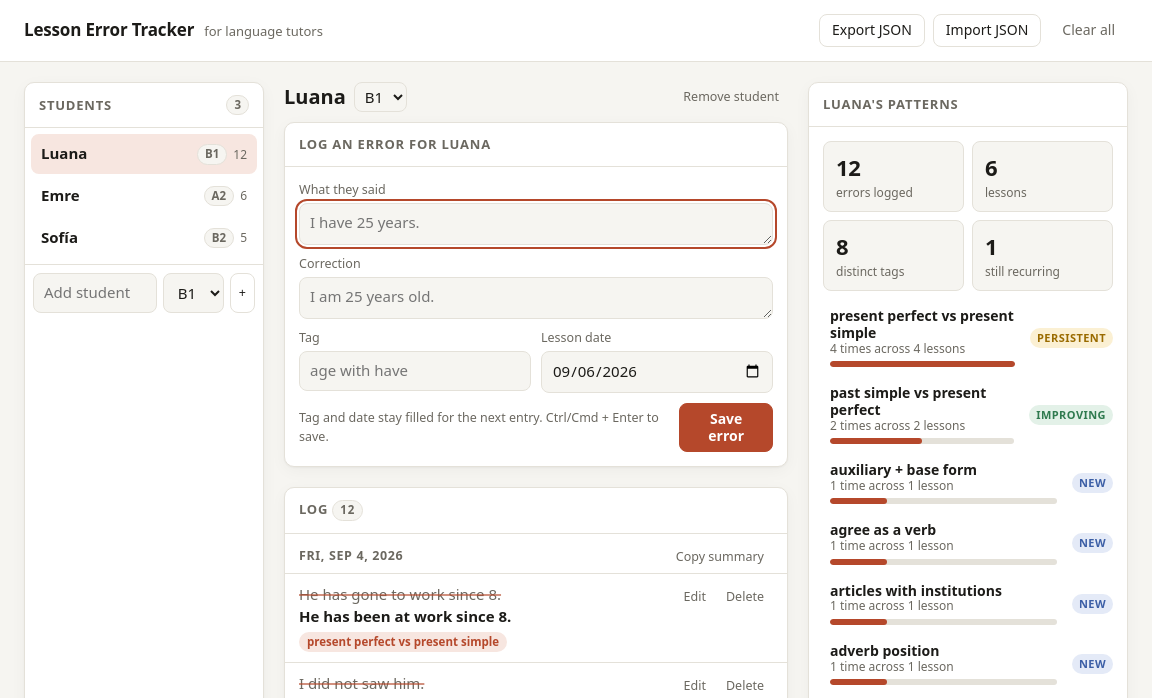
Scenario: App › copies a plain-text summary of one lesson to the clipboard
The width and height of the screenshot is (1152, 698).
Click the button with aria-label "Copy lesson summary for": (720,556) [667, 544, 773, 569]
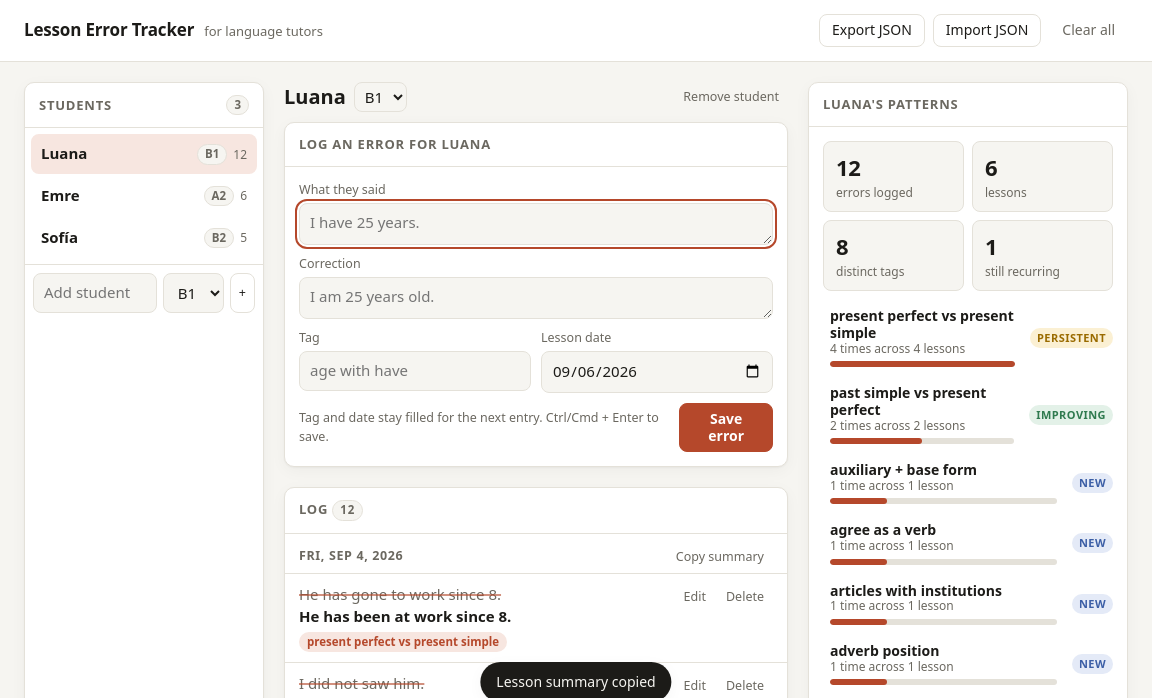
expect the message reads "Lesson summary copied": met, box [496, 672, 656, 691]
